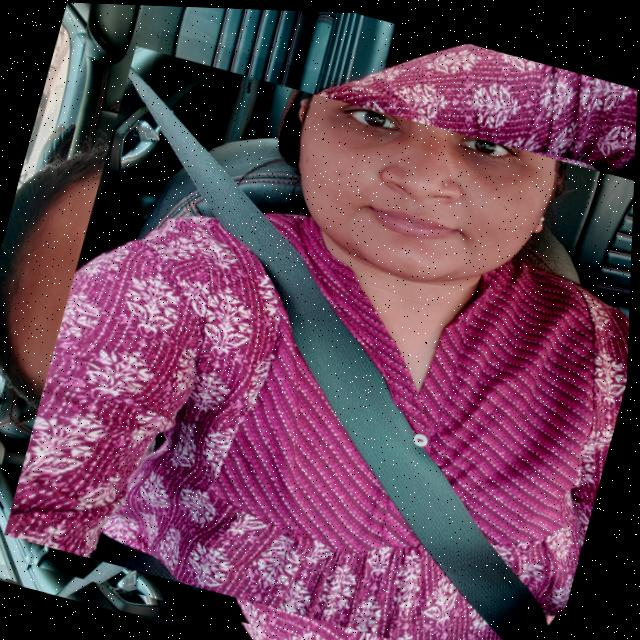seatbelt: (19, 24, 639, 640)
